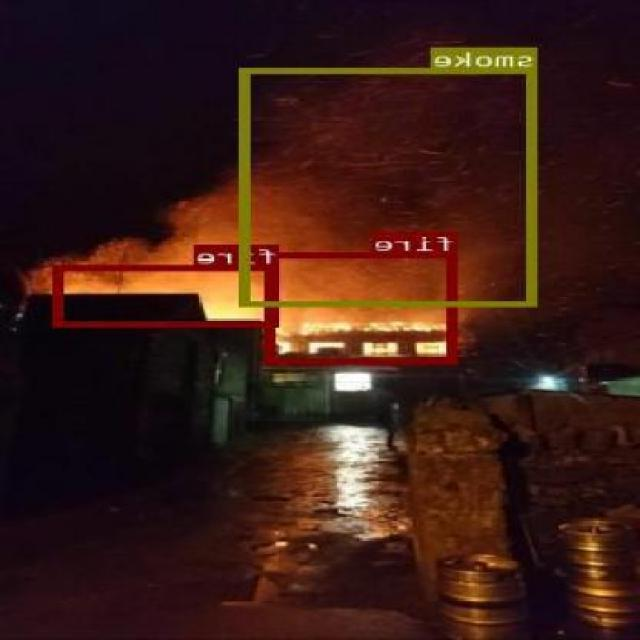Fire: (39, 205, 456, 372)
Smoke: (192, 49, 566, 284)
